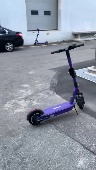beam: (24, 43, 91, 127), (31, 27, 50, 48)
